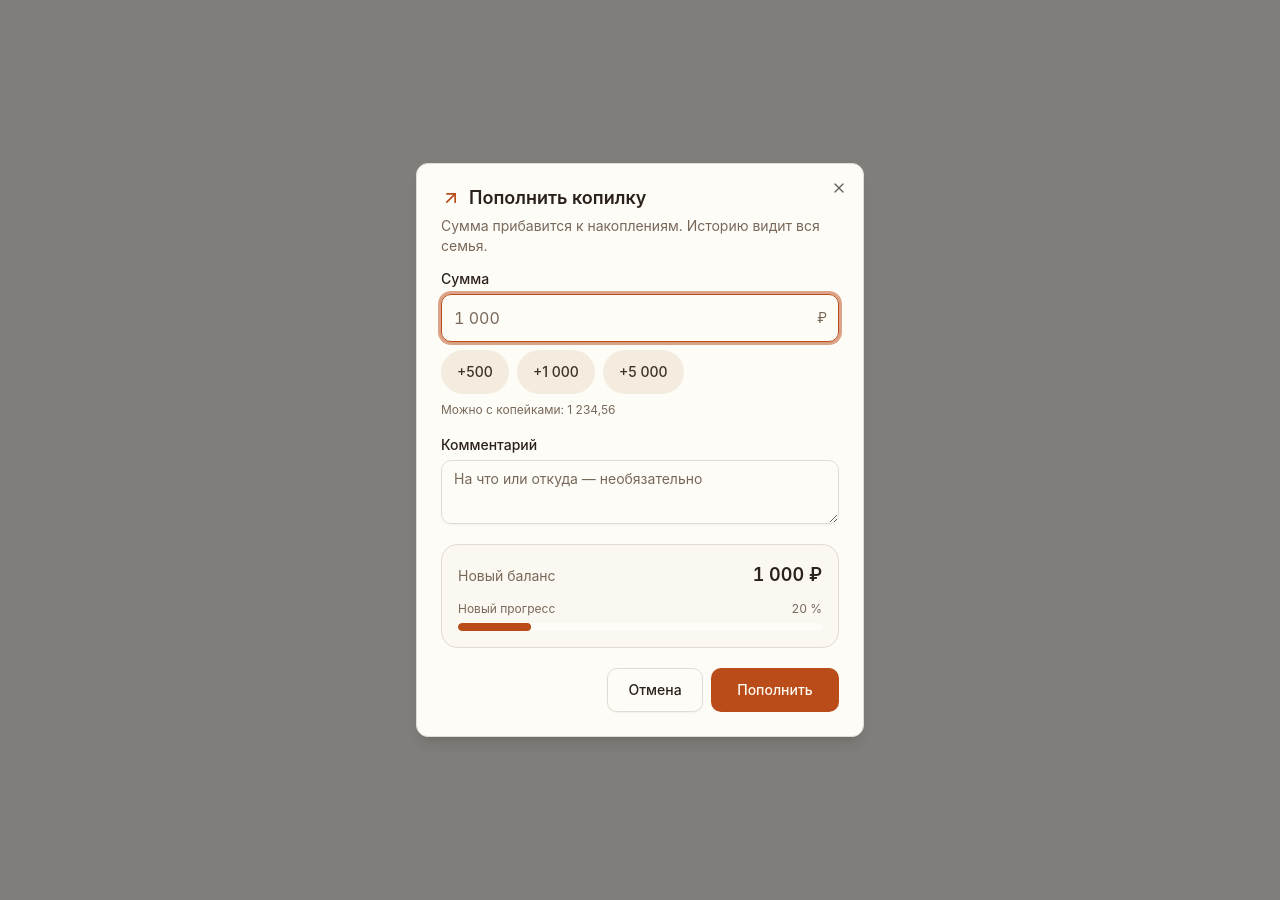
Test: contribute dialog preview › previews the resulting balance and progress in integer minor units
The image size is (1280, 900).
Type "1 234,56" into the field labelled "Сумма". click: point(640, 318)
box: [441,294,839,342]
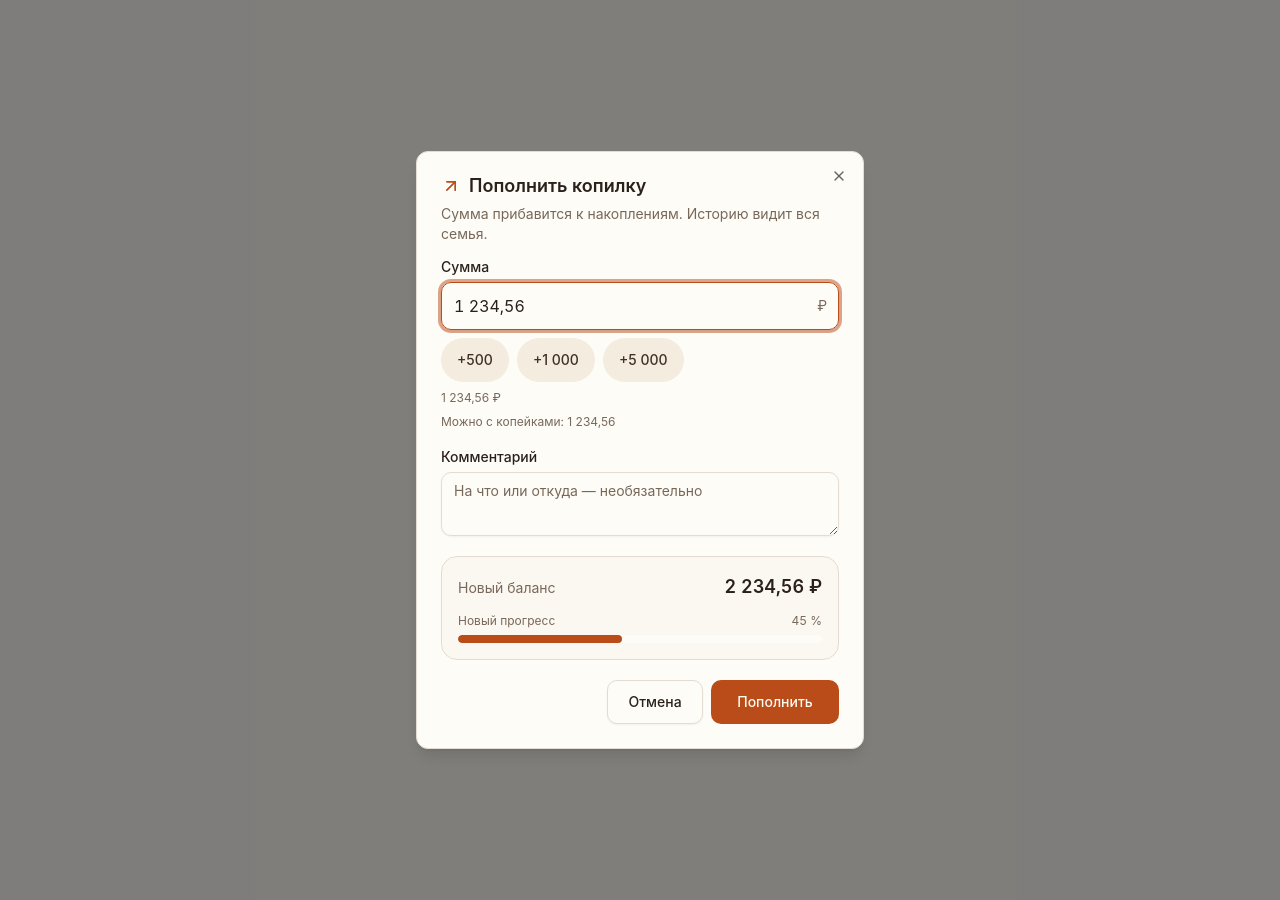
Result: the text with test id "contribute-preview-percent" shows "45" at [791,613,807,628]
